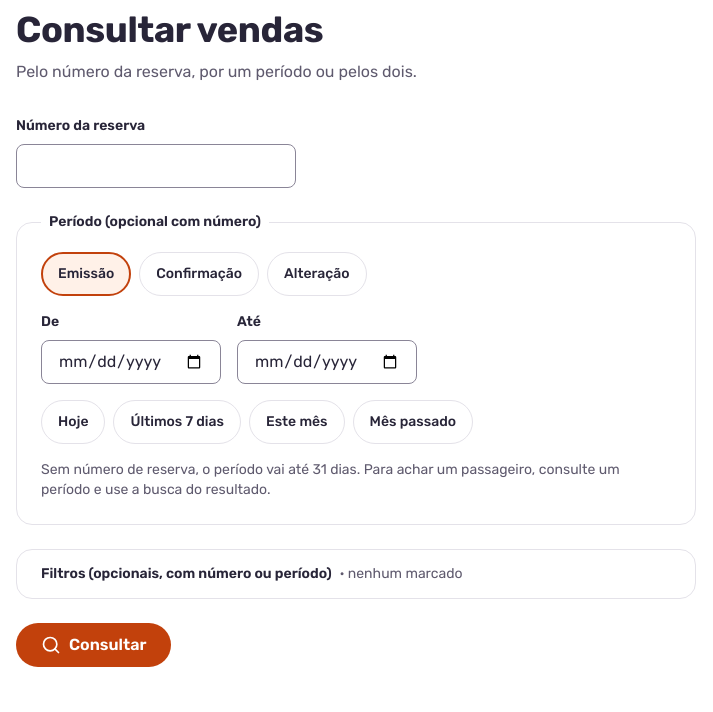
Test: período de 32 dias sem número é recusado na tela, sem chamar a API (critério 12)
Step 1. Type "2026-10-24" into the date field labelled "De" → (131, 362), box top-left (41, 340), bottom-right (221, 384)
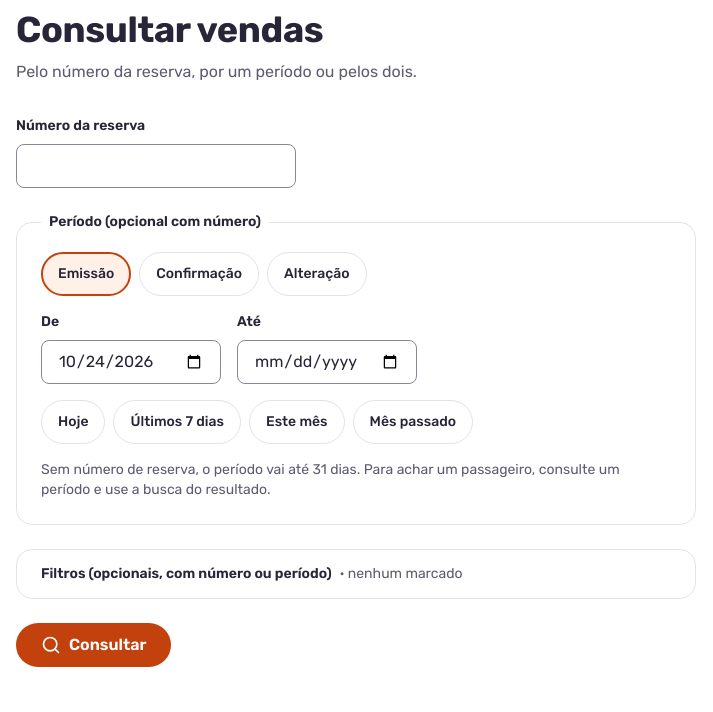
Step 2. Type "2026-11-24" into the date field labelled "Até" → (327, 362), box top-left (237, 340), bottom-right (417, 384)
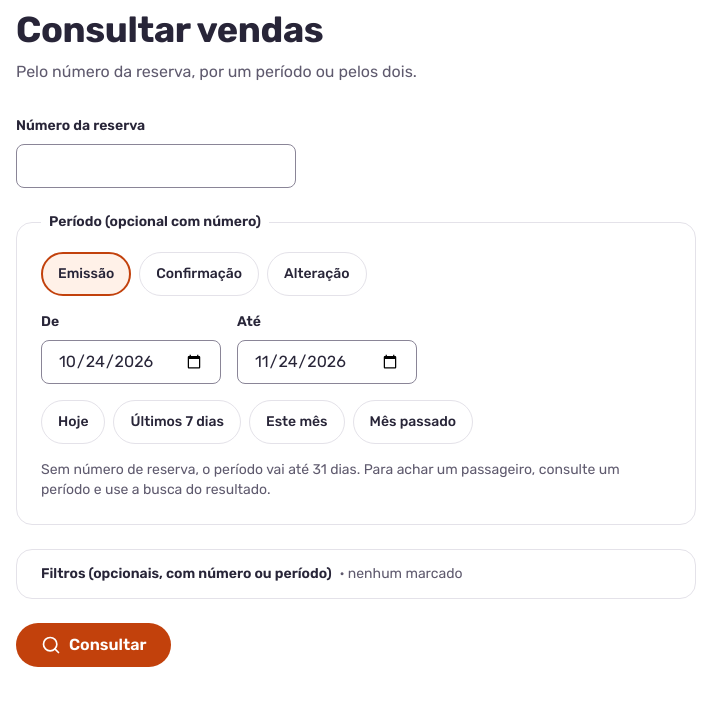
Step 3. Click the button "Consultar" → (94, 645), box top-left (16, 623), bottom-right (171, 667)
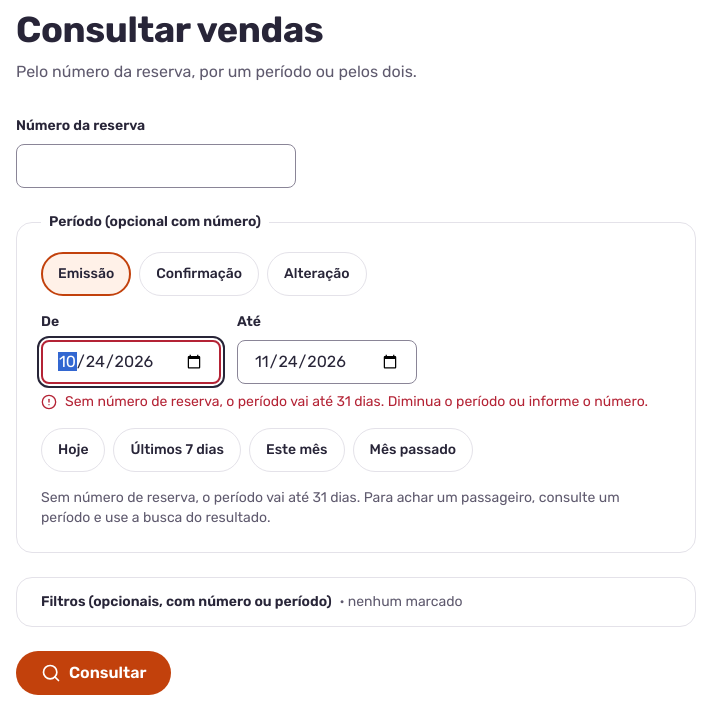
Expected: the text "Sem número de reserva, o período vai até 31 dias. Diminua o período ou informe o número." is shown, top-left (65, 393), bottom-right (648, 410)
